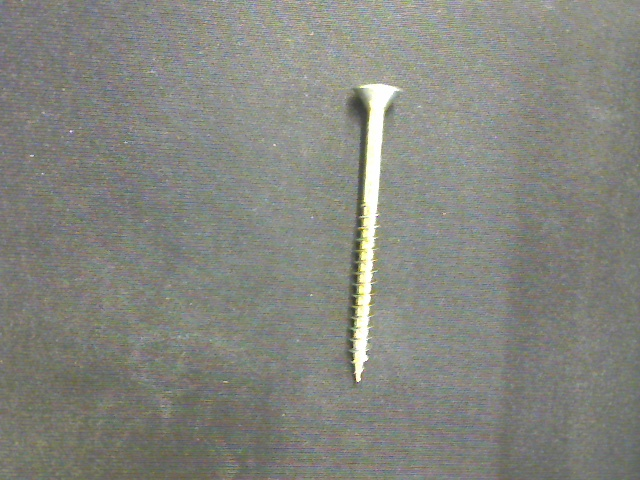Screw: (349, 83, 402, 381)
